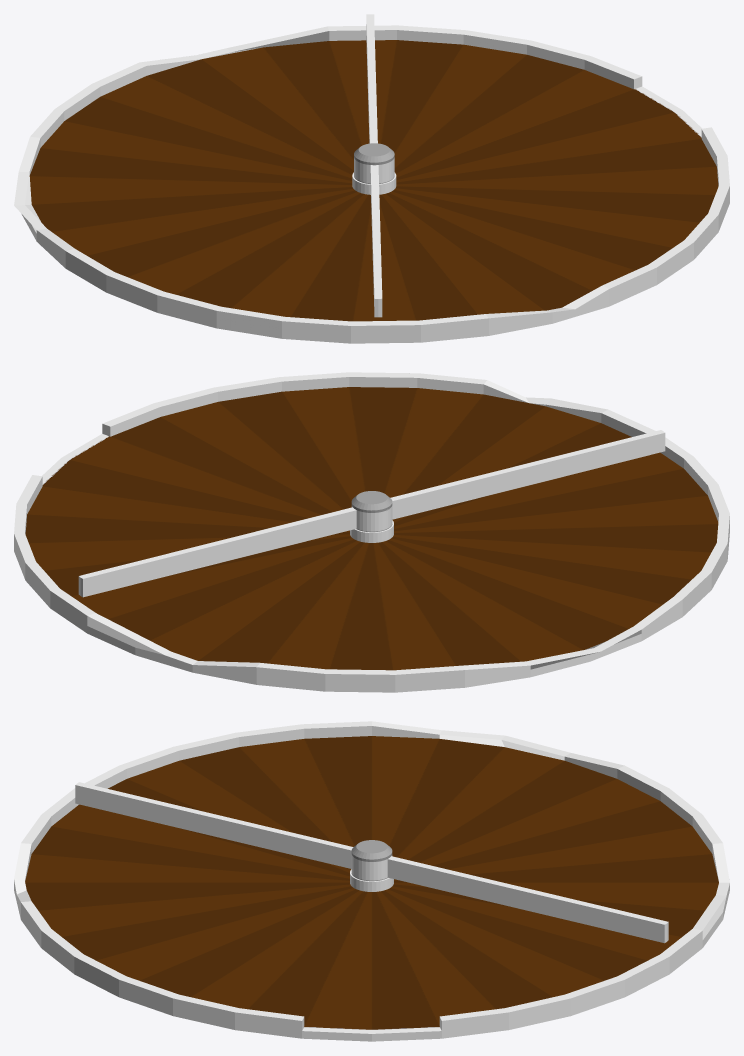
Rendered from farm 1st damage.fbx.
The picture shows the model from 3 angles, top to bottom: view 1: azimuth 30°, elevation 25°; view 2: azimuth 150°, elevation 25°; view 3: azimuth 270°, elevation 25°; orthographic projection.
Visible parts, largest first — view 1: Circle, Circle.001; view 2: Circle, Circle.001; view 3: Circle, Circle.001.
Part boxes in pixels (box(x1,y1,x2,y2)): Circle: box(14, 25, 729, 343); Circle.001: box(354, 14, 394, 317); Circle: box(14, 372, 729, 692); Circle.001: box(78, 430, 665, 597); Circle: box(14, 721, 729, 1041); Circle.001: box(75, 782, 668, 943).
Bounding box in the file's own units: 1645 × 111 × 1645.
